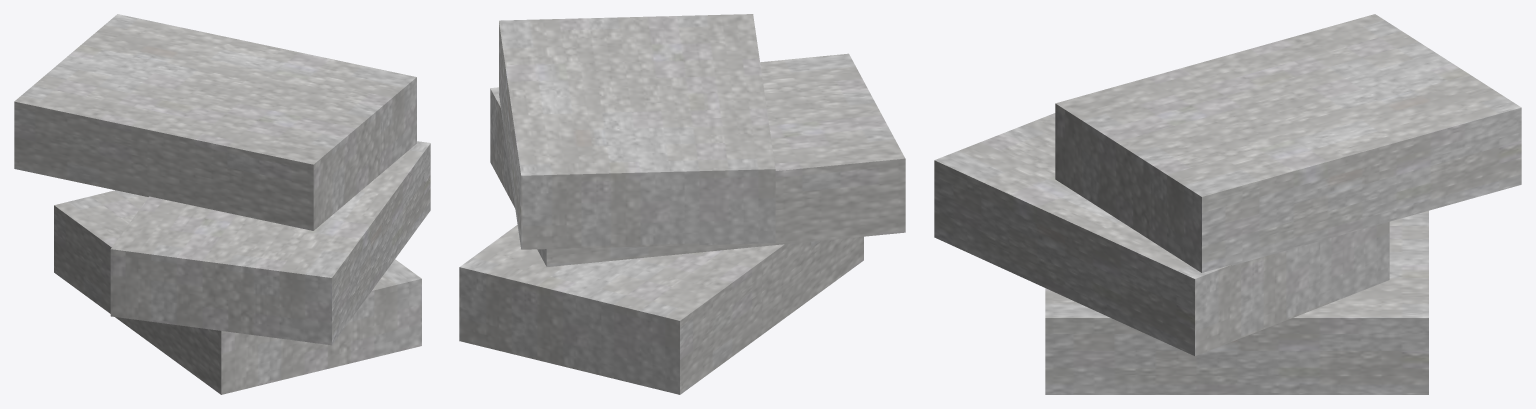
File: wax_1.fbx
3 renders of one model, left to right at view 1: azimuth 30°, elevation 25°; view 2: azimuth 150°, elevation 25°; view 3: azimuth 270°, elevation 25°, orthographic. The views are drawn at different scales.
Visible parts, largest first — view 1: wax3, wax2, wax; view 2: wax3, wax, wax2; view 3: wax3, wax2, wax.
Boxes of the visible parts, <box> form: wax3: <box>14,14,416,230</box>; wax2: <box>110,141,430,345</box>; wax: <box>54,190,421,394</box>; wax3: <box>499,14,775,249</box>; wax: <box>459,225,863,394</box>; wax2: <box>490,53,905,266</box>; wax3: <box>1055,14,1521,272</box>; wax2: <box>934,113,1389,355</box>; wax: <box>1045,210,1428,394</box>.
Bounding box in the file's own units: 19.32 × 10.77 × 24.57.
1 material, 1 textured.
